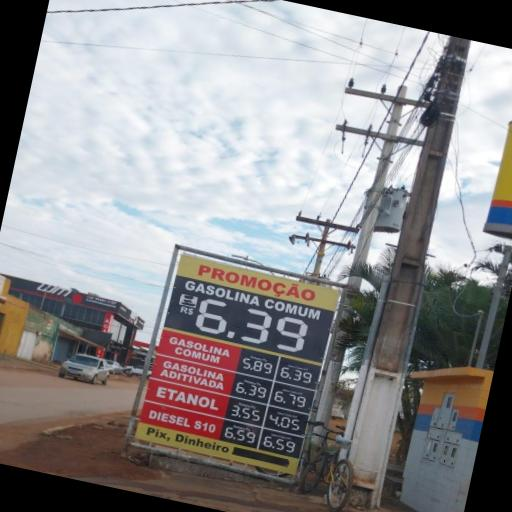ETANOL: (154, 381, 225, 415)
GASOLINA AD: (155, 357, 235, 393)
GASOLINA C: (163, 333, 239, 371)
S10: (145, 403, 220, 437)
placa: (141, 330, 320, 459)
preco: (233, 374, 271, 401), (228, 398, 264, 424), (240, 352, 275, 378), (222, 424, 256, 444)
